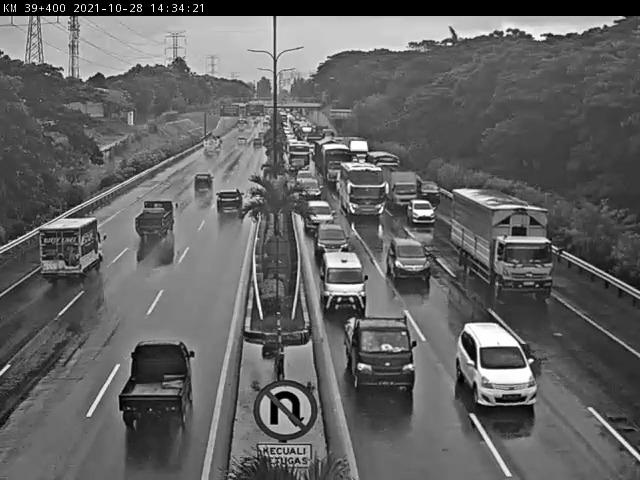big bus: (340, 161, 387, 215)
big truck: (450, 186, 557, 300), (384, 168, 420, 211), (323, 145, 352, 183)
car: (450, 318, 540, 409), (116, 336, 196, 420), (340, 314, 416, 392), (320, 249, 368, 314), (386, 236, 432, 281), (315, 219, 350, 259), (302, 197, 338, 234), (405, 196, 436, 228), (298, 179, 324, 202), (417, 179, 438, 204), (295, 168, 314, 188)
small truck: (41, 217, 104, 280), (135, 199, 181, 240)
